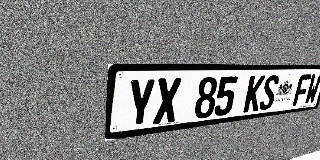5: (213, 76, 238, 117)
8: (193, 77, 219, 119)
F: (292, 74, 312, 106)
K: (243, 75, 266, 113)
S: (258, 75, 280, 111)
W: (304, 74, 320, 105)
X: (153, 78, 182, 125)
Y: (125, 78, 156, 128)
